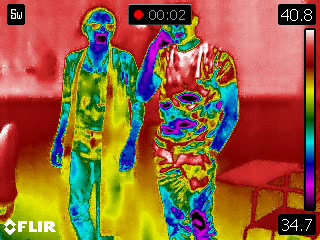human: (136, 7, 246, 240), (50, 5, 146, 240)
